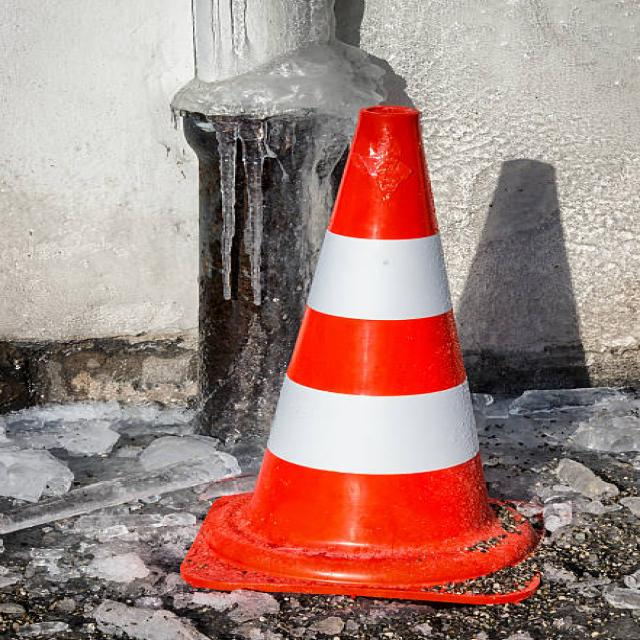Traffic Cone: (143, 82, 571, 629)
